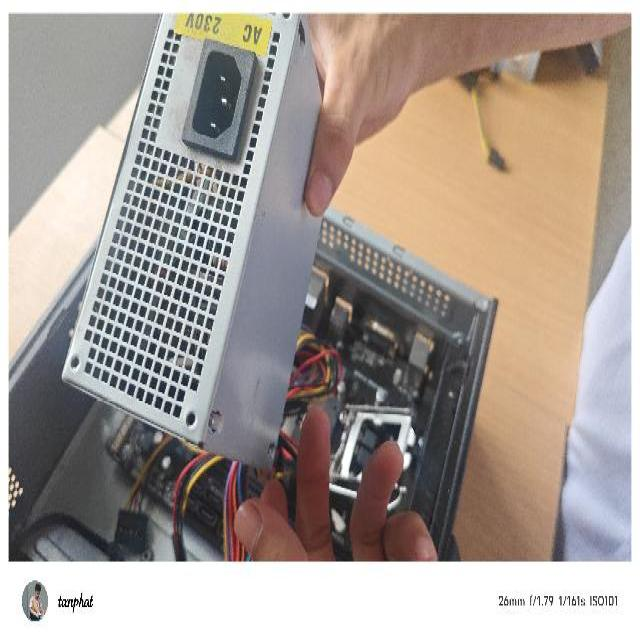PSU: (61, 12, 332, 468)
